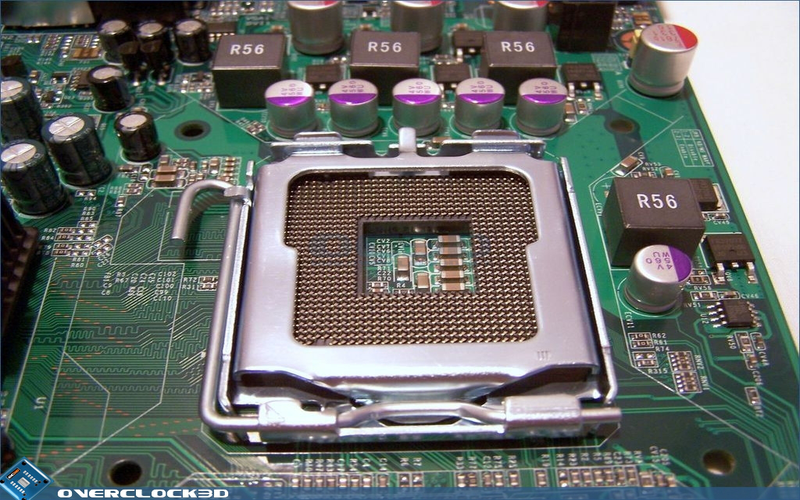Cirtuit-Board: (3, 21, 800, 500)
